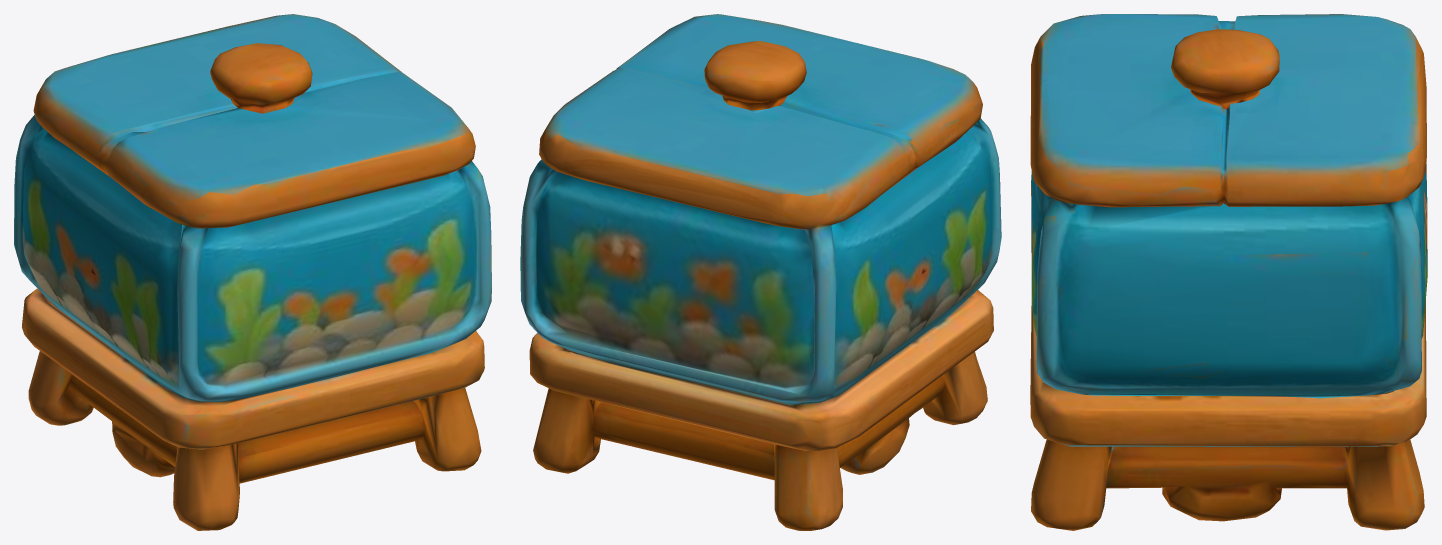
File: fish_tank.glb
3 renders of one model, left to right at view 1: azimuth 30°, elevation 25°; view 2: azimuth 150°, elevation 25°; view 3: azimuth 270°, elevation 25°, orthographic. The views are drawn at different scales.
Parts seen in each view (by area): view 1: textured_mesh.obj; view 2: textured_mesh.obj; view 3: textured_mesh.obj.
Boxes of the visible parts, x1,y1,x2,y2 form: textured_mesh.obj: (14,14,491,530); textured_mesh.obj: (520,14,1001,530); textured_mesh.obj: (1030,14,1427,530).
Size of what is drawn, in the model's own units: 0.8777 by 0.9994 by 0.8569.
1 material, 1 textured.
